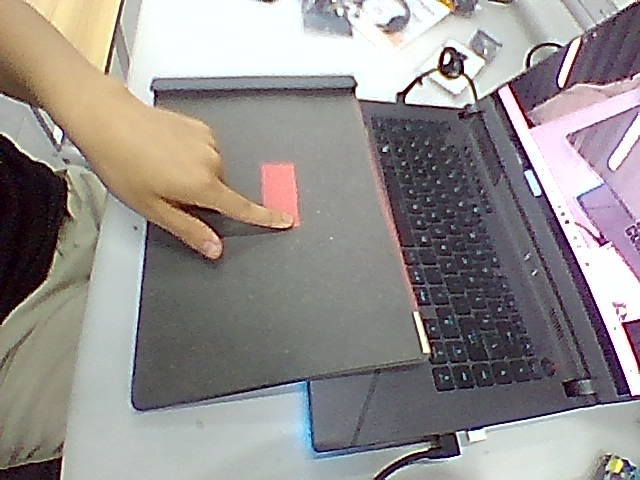card: (263, 162, 299, 226)
